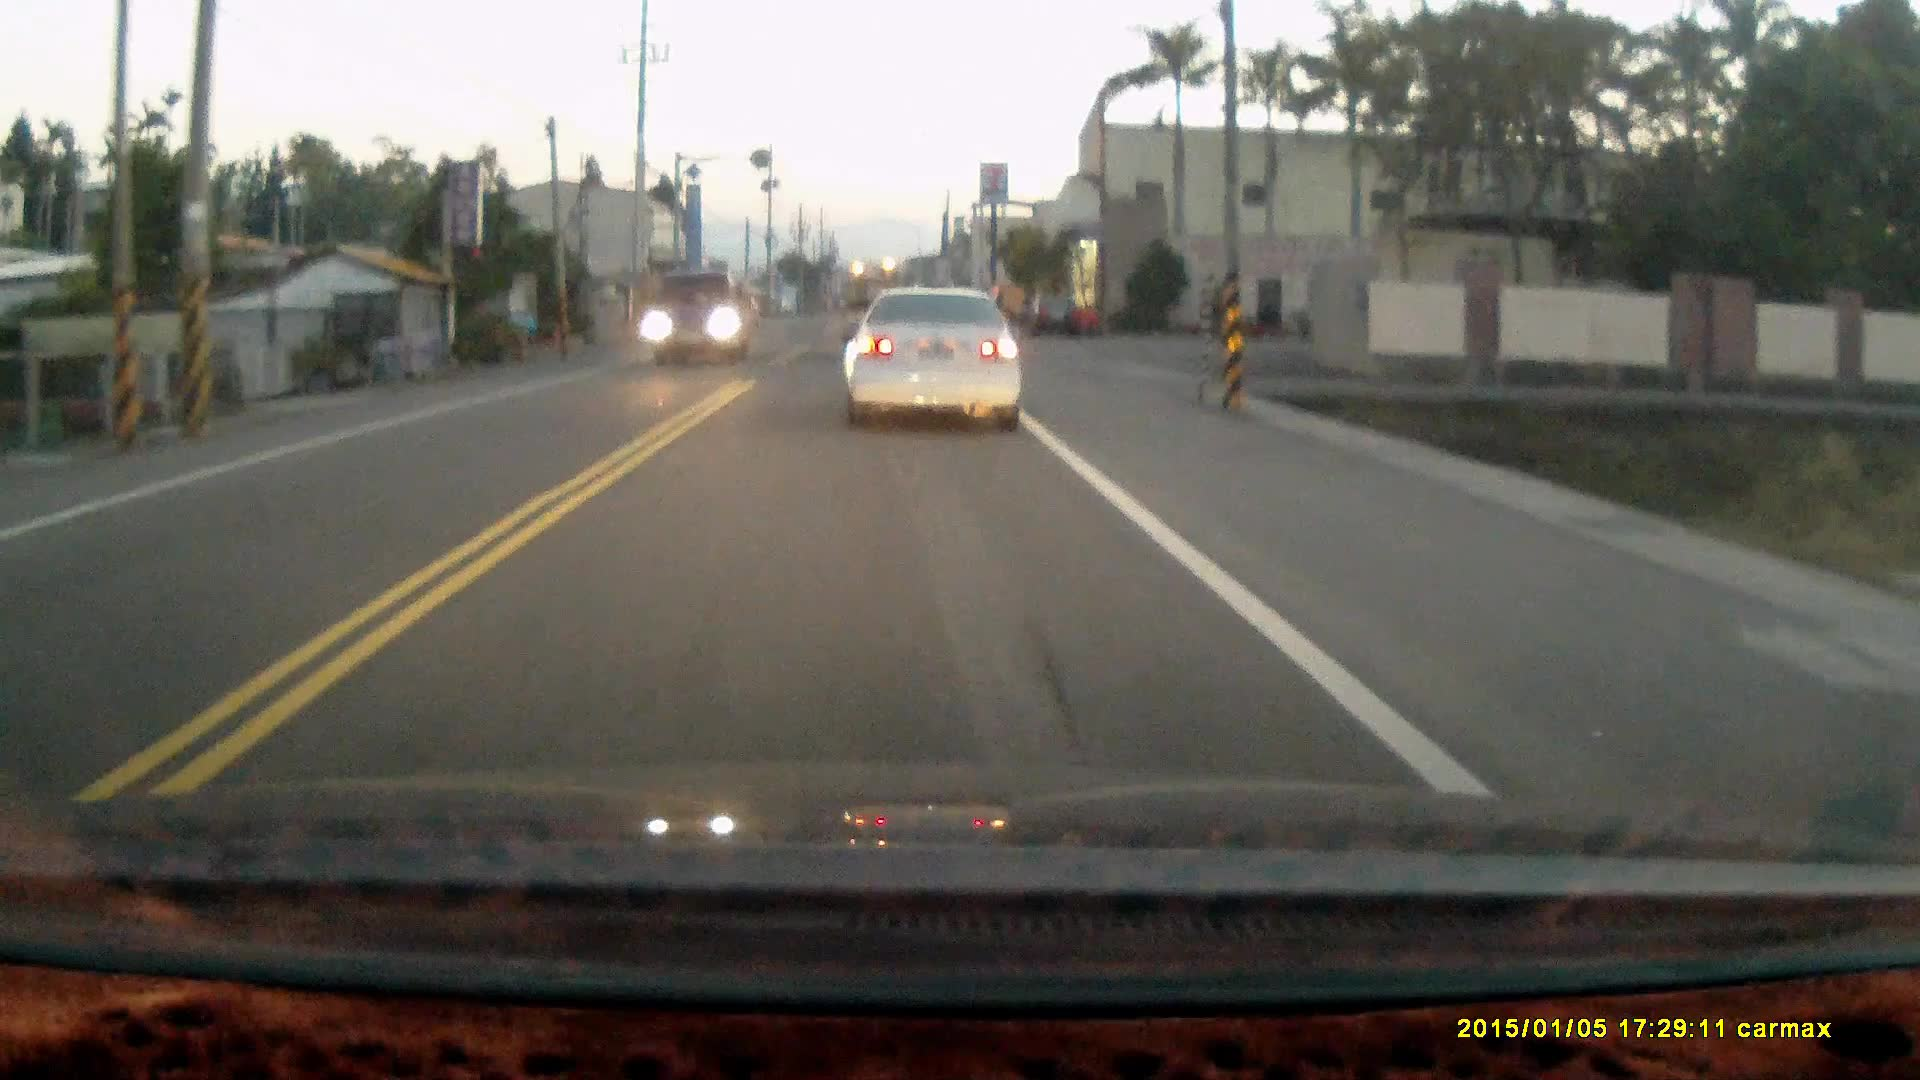vehicle: (849, 285, 1023, 438), (647, 269, 752, 373), (1027, 291, 1084, 339), (719, 305, 769, 343)
